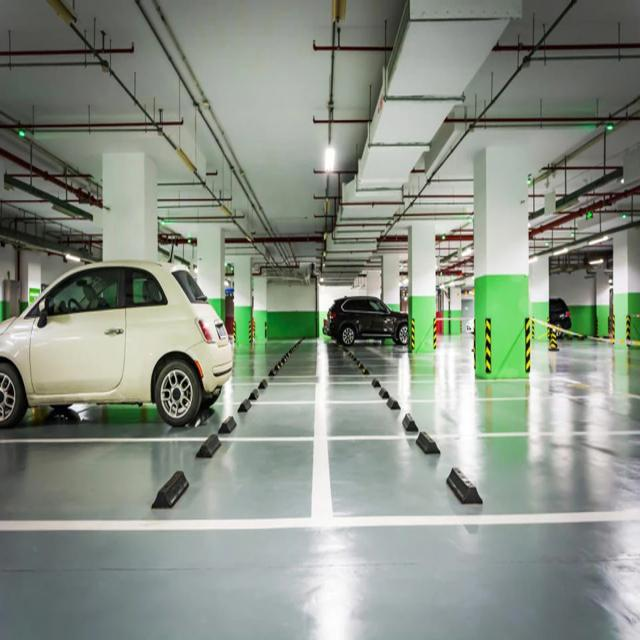libre: (2, 436, 190, 516), (449, 434, 633, 498), (226, 289, 292, 403), (412, 403, 628, 436), (393, 375, 576, 404), (355, 345, 468, 379)
ocupado: (2, 262, 231, 425), (318, 289, 412, 363)
